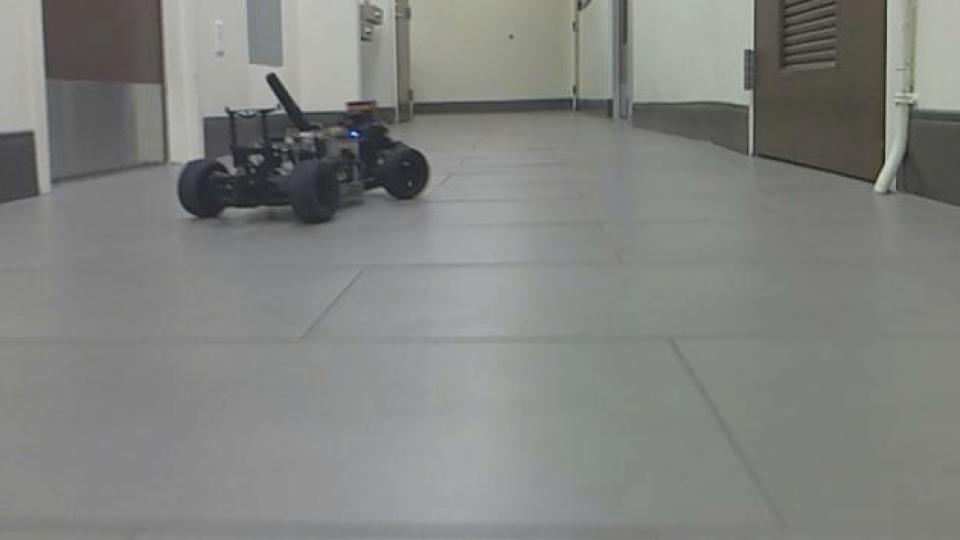car: (174, 69, 434, 227)
